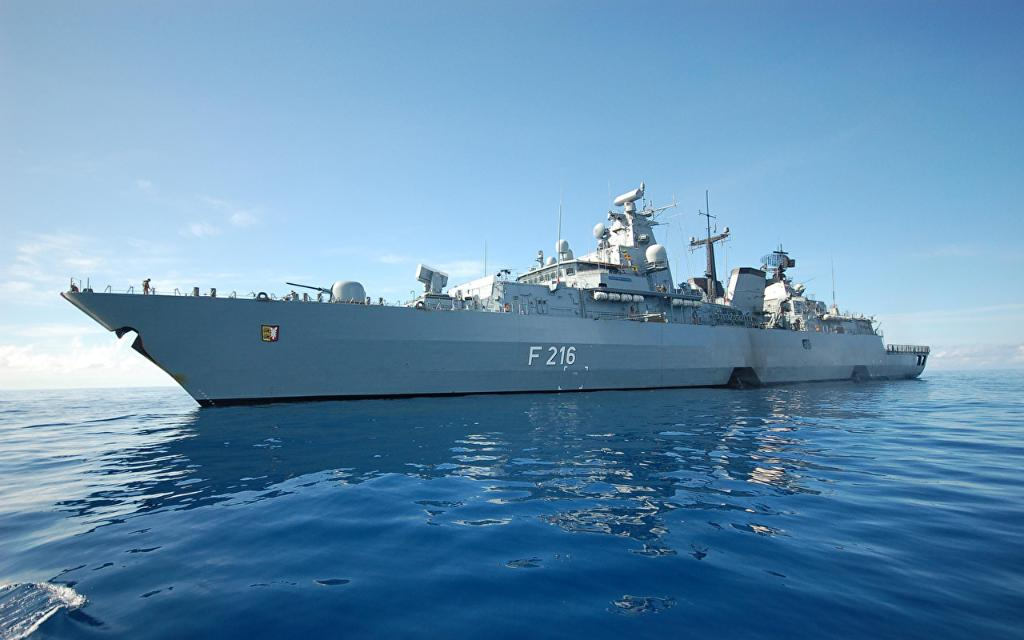Warship: (56, 172, 930, 406)
